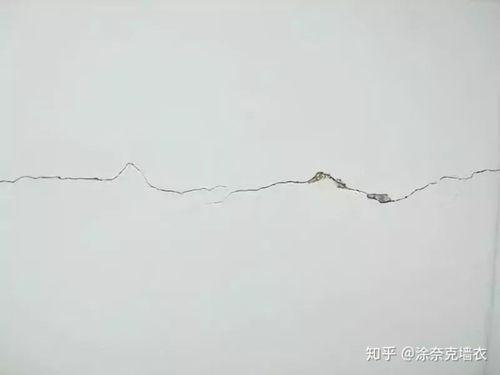Crack: (205, 168, 500, 205), (1, 162, 228, 195)
